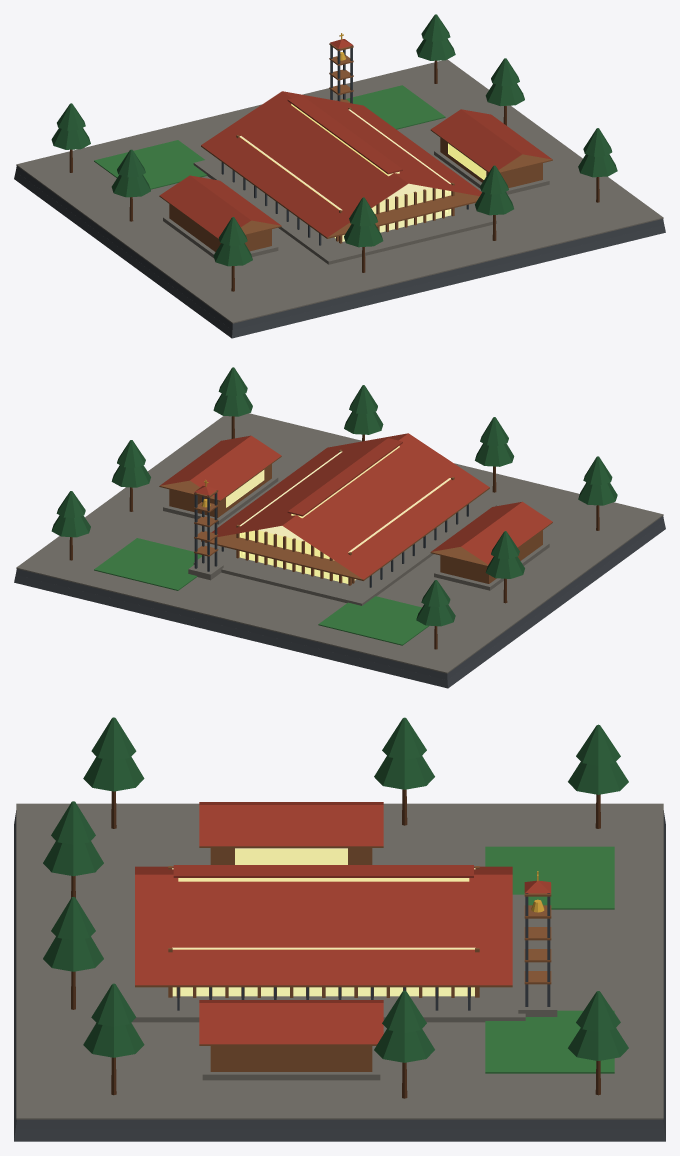
The model's file is lm_52_nha_tho_ka_don_don_duong.glb.
3 renders of one model, top to bottom at view 1: azimuth 30°, elevation 25°; view 2: azimuth 150°, elevation 25°; view 3: azimuth 270°, elevation 25°, orthographic. The views are drawn at different scales.
Parts seen in each view (by area): view 1: Foundation_Plinth_Trim, KaDon_Churu_Broad_Terracotta_Roof, Foundation_Skirt, KaDon_Surrounding_Pine_Forest, KaDon_Open_Fieldstone_Terrace, KaDon_Forest_Clearing_Lawns, KaDon_Pine_Louver_Screens, KaDon_Churu_Museum_Roof_East_Churu_Gong, KaDon_Churu_Museum_Roof_West_Churu_Pottery, KaDon_Glowing_Glass_Strips, KaDon_Low_Slung_Terracotta_Roof, KaDon_Churu_Broad_Terracotta_Roof_Trim (+3 smaller); view 2: Foundation_Plinth_Trim, KaDon_Churu_Broad_Terracotta_Roof, Foundation_Skirt, KaDon_Surrounding_Pine_Forest, KaDon_Open_Fieldstone_Terrace, KaDon_Forest_Clearing_Lawns, KaDon_Pine_Louver_Screens, KaDon_Churu_Museum_Roof_East_Churu_Gong, KaDon_Churu_Museum_Roof_West_Churu_Pottery, KaDon_Glowing_Glass_Strips, KaDon_Churu_Broad_Terracotta_Roof_Trim, KaDon_Low_Slung_Terracotta_Roof (+2 smaller); view 3: Foundation_Plinth_Trim, KaDon_Churu_Broad_Terracotta_Roof, KaDon_Surrounding_Pine_Forest, Foundation_Skirt, KaDon_Forest_Clearing_Lawns, KaDon_Open_Fieldstone_Terrace, KaDon_Churu_Museum_Roof_West_Churu_Pottery, KaDon_Churu_Museum_Roof_East_Churu_Gong, KaDon_Pine_Louver_Screens, KaDon_Glowing_Glass_Strips, KaDon_Low_Slung_Terracotta_Roof, KaDon_Timber_Columns_And_Trunks (+2 smaller).
Part boxes in pixels (left/top/right/bottom): Foundation_Plinth_Trim: left=16, top=59, right=663, bottom=323; KaDon_Churu_Broad_Terracotta_Roof: left=201, top=91, right=481, bottom=237; Foundation_Skirt: left=14, top=166, right=665, bottom=338; KaDon_Surrounding_Pine_Forest: left=51, top=14, right=617, bottom=266; KaDon_Open_Fieldstone_Terrace: left=163, top=149, right=549, bottom=264; KaDon_Forest_Clearing_Lawns: left=94, top=85, right=445, bottom=189; KaDon_Pine_Louver_Screens: left=169, top=43, right=542, bottom=251; KaDon_Churu_Museum_Roof_East_Churu_Gong: left=431, top=109, right=552, bottom=171; KaDon_Churu_Museum_Roof_West_Churu_Pottery: left=159, top=175, right=280, bottom=238; KaDon_Glowing_Glass_Strips: left=239, top=104, right=486, bottom=241; KaDon_Low_Slung_Terracotta_Roof: left=287, top=39, right=402, bottom=174; KaDon_Churu_Broad_Terracotta_Roof_Trim: left=201, top=145, right=479, bottom=238; Foundation_Plinth_Trim: left=16, top=413, right=663, bottom=673; KaDon_Churu_Broad_Terracotta_Roof: left=211, top=433, right=489, bottom=579; Foundation_Skirt: left=14, top=516, right=665, bottom=688; KaDon_Surrounding_Pine_Forest: left=51, top=367, right=617, bottom=626; KaDon_Open_Fieldstone_Terrace: left=163, top=476, right=549, bottom=605; KaDon_Forest_Clearing_Lawns: left=94, top=538, right=429, bottom=645; KaDon_Pine_Louver_Screens: left=169, top=449, right=542, bottom=585; KaDon_Churu_Museum_Roof_East_Churu_Gong: left=160, top=435, right=281, bottom=500; KaDon_Churu_Museum_Roof_West_Churu_Pottery: left=431, top=501, right=552, bottom=564; KaDon_Glowing_Glass_Strips: left=226, top=446, right=450, bottom=583; KaDon_Churu_Broad_Terracotta_Roof_Trim: left=201, top=487, right=489, bottom=580; KaDon_Low_Slung_Terracotta_Roof: left=194, top=438, right=402, bottom=516; Foundation_Plinth_Trim: left=16, top=803, right=663, bottom=1119; KaDon_Churu_Broad_Terracotta_Roof: left=135, top=866, right=512, bottom=985; KaDon_Surrounding_Pine_Forest: left=43, top=717, right=628, bottom=1062; Foundation_Skirt: left=14, top=810, right=665, bottom=1141; KaDon_Forest_Clearing_Lawns: left=485, top=846, right=614, bottom=1073; KaDon_Open_Fieldstone_Terrace: left=122, top=848, right=557, bottom=1080; KaDon_Churu_Museum_Roof_West_Churu_Pottery: left=199, top=802, right=383, bottom=846; KaDon_Churu_Museum_Roof_East_Churu_Gong: left=199, top=1000, right=383, bottom=1044; KaDon_Pine_Louver_Screens: left=168, top=848, right=551, bottom=1071; KaDon_Glowing_Glass_Strips: left=172, top=848, right=475, bottom=996; KaDon_Low_Slung_Terracotta_Roof: left=173, top=865, right=550, bottom=893; KaDon_Timber_Columns_And_Trunks: left=71, top=789, right=600, bottom=1098.
Bounding box in the file's own units: 92.85 × 22 × 80.73.
